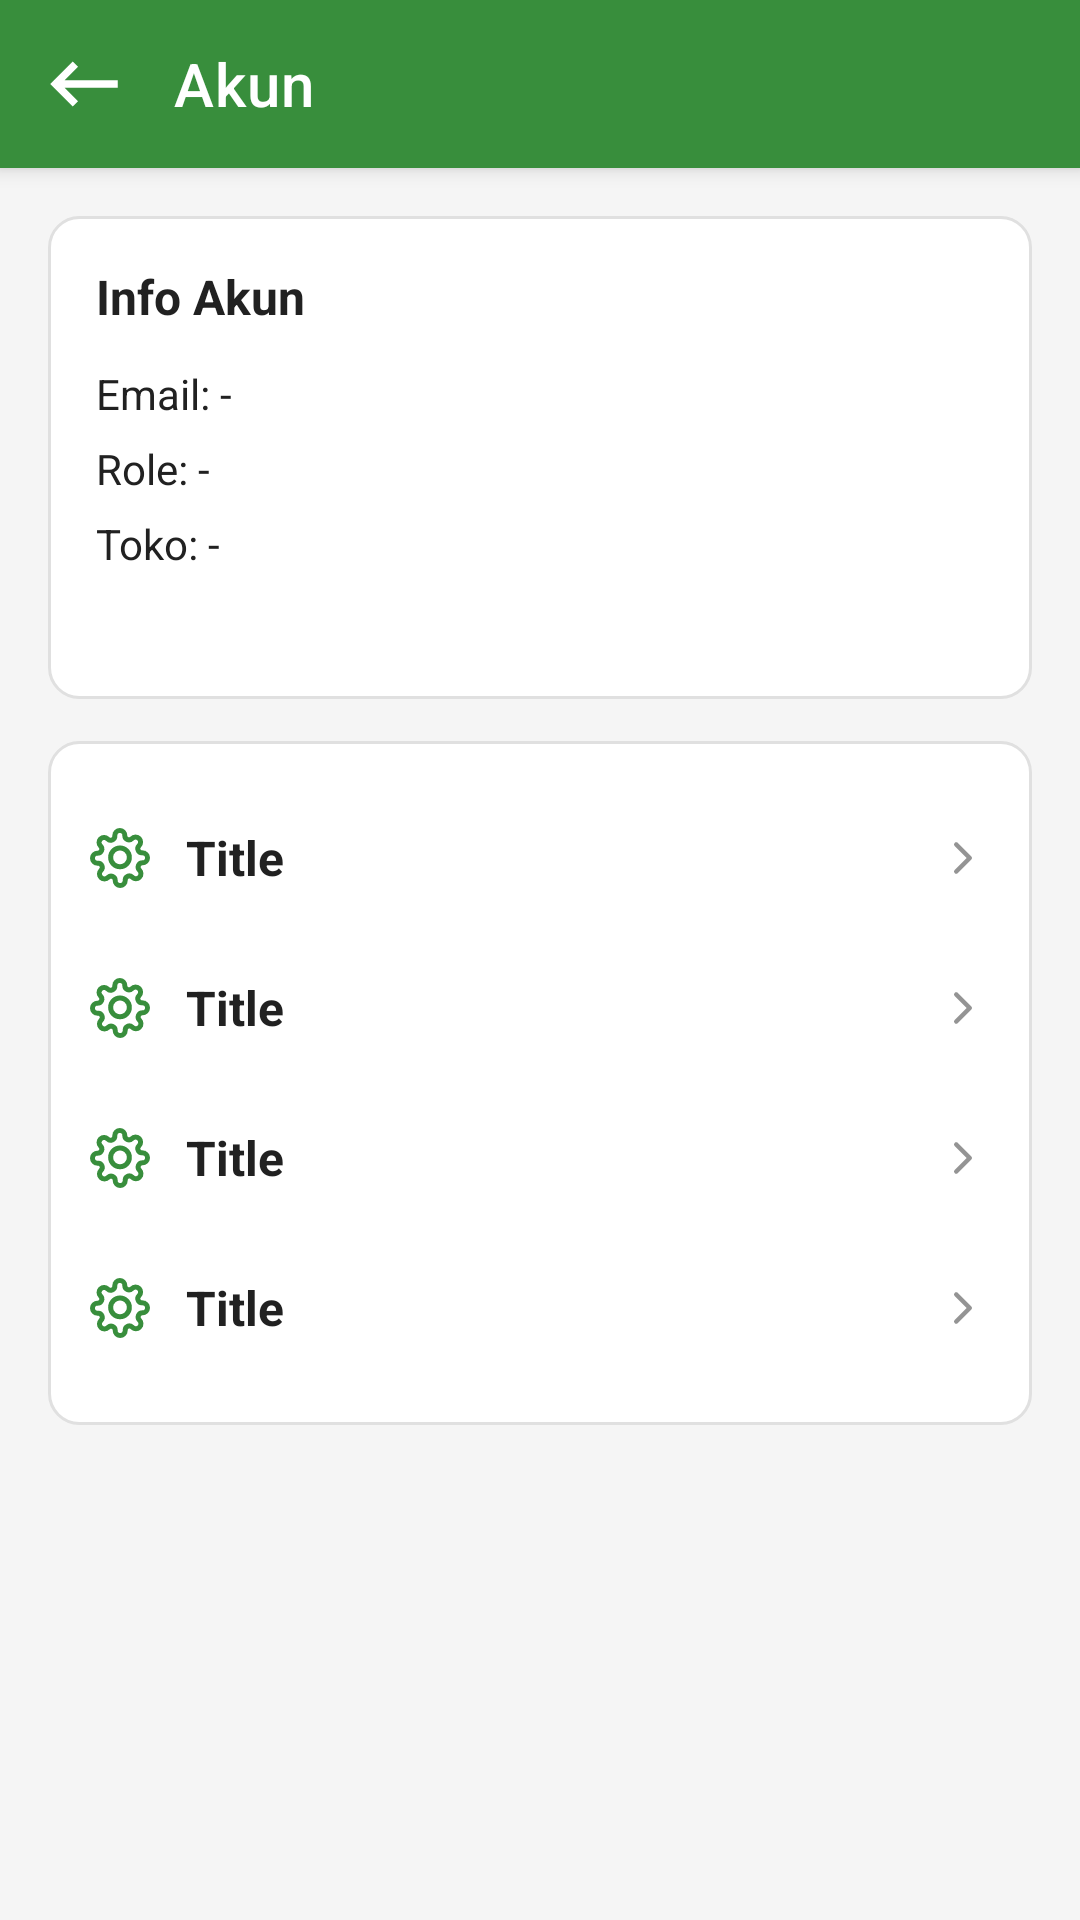

Named icons in this screenshot (1080 x 1920) and their centers, [x,y]:
setting: [120,858], [120,1008], [120,1158], [120,1308]
